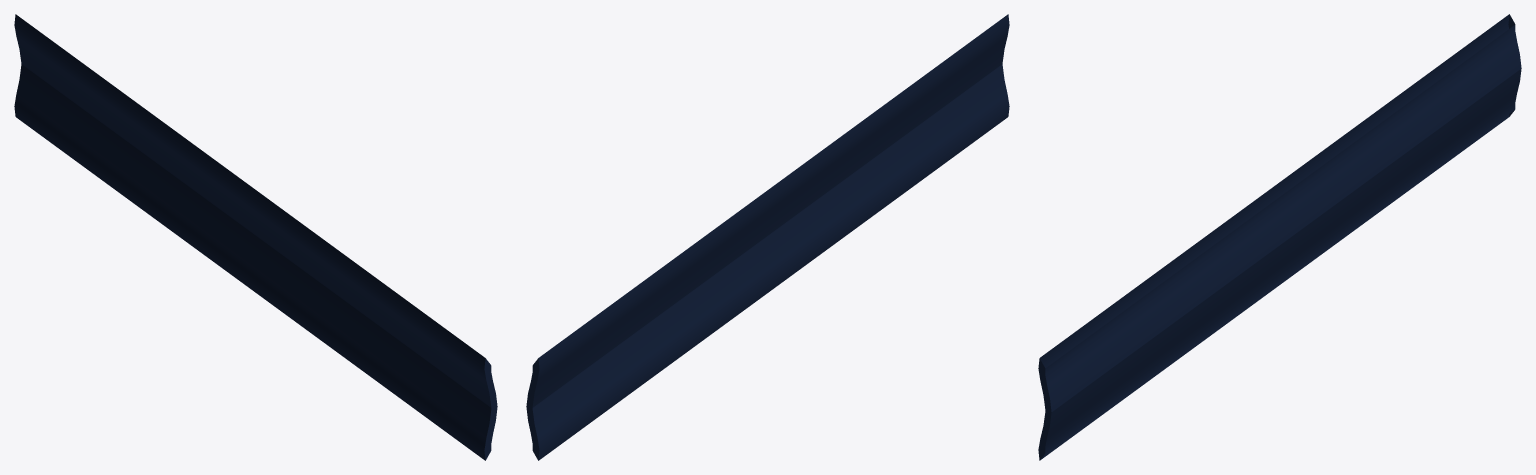
Rendered from SpellbookNoUV_PageBinding.fbx.
The picture shows the model from 3 angles, left to right: view 1: azimuth 30°, elevation 25°; view 2: azimuth 150°, elevation 25°; view 3: azimuth 330°, elevation 25°; orthographic projection.
Visible parts, largest first — view 1: spellbook_pagebinding; view 2: spellbook_pagebinding; view 3: spellbook_pagebinding.
Part boxes in pixels (x1=…): spellbook_pagebinding: x1=14, y1=14, x2=497, y2=460; spellbook_pagebinding: x1=526, y1=14, x2=1009, y2=460; spellbook_pagebinding: x1=1038, y1=14, x2=1521, y2=460.
Bounding box in the file's own units: 0.5488 × 4.11 × 34.02.
